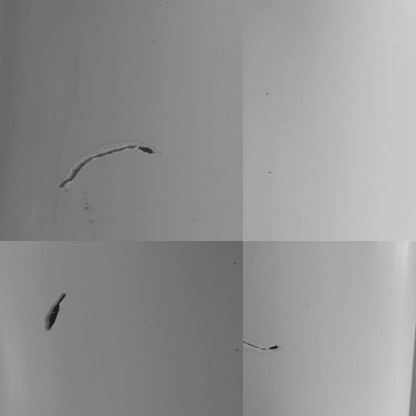fengxi: (52, 141, 160, 195), (240, 336, 278, 355)
kongdong: (45, 290, 70, 333)
